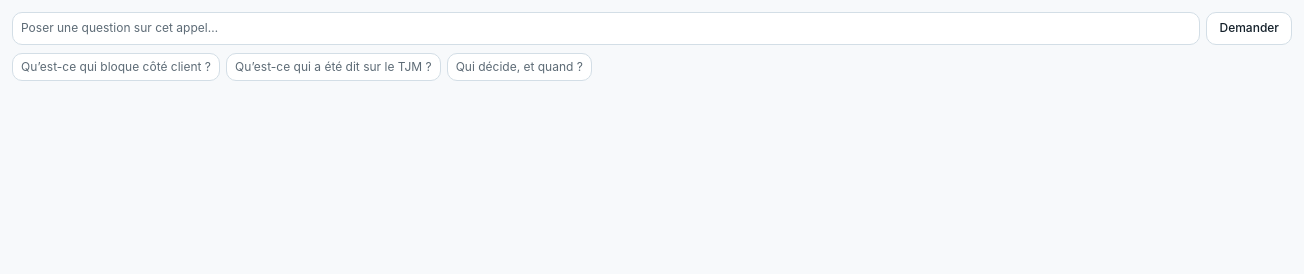
Test: the panel keeps what it answered › a second question does not take the first answer off screen
Type "Quel TJM ?" into the field labelled "Poser une question sur cet appel" at (606, 28), box [12,12,1200,45]
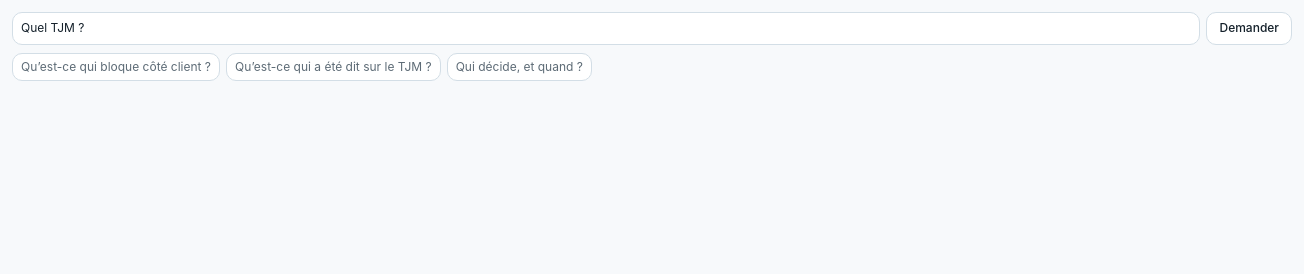
Click the button "Demander" at (1249, 28), box [1206,12,1292,45]
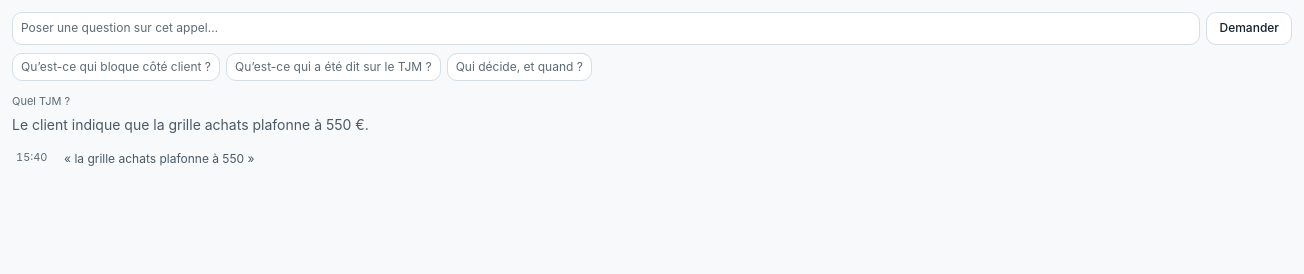
Expected: the text "Quel TJM ?" is shown, [12,94,70,108]
Type "Qui décide ?" into the field labelled "Poser une question sur cet appel" at (606, 28), box [12,12,1200,45]
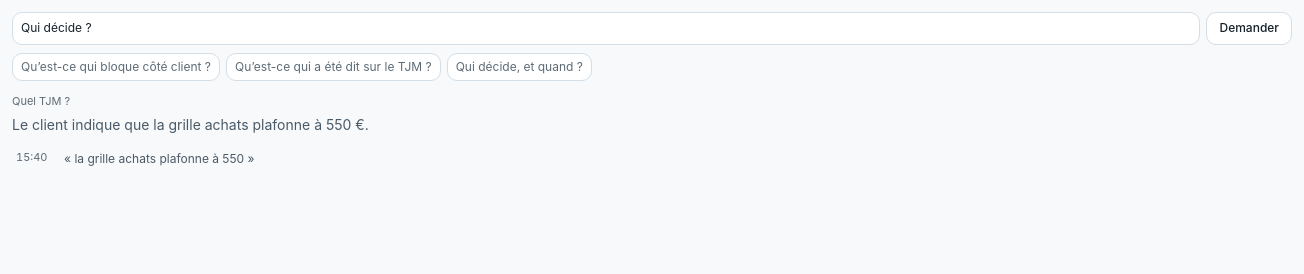
Click the button "Demander" at (1249, 28), box [1206,12,1292,45]
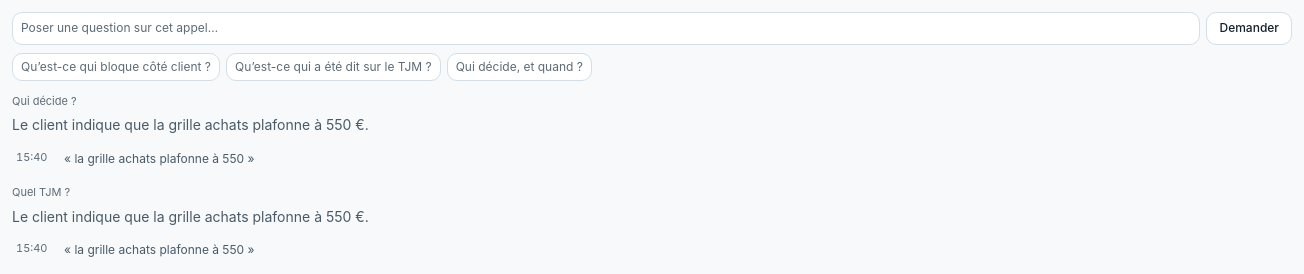
Expected: the text "Quel TJM ?" is shown, [12,186,70,200]
Expected: the text "Qui décide ?" is shown, [12,94,77,108]
